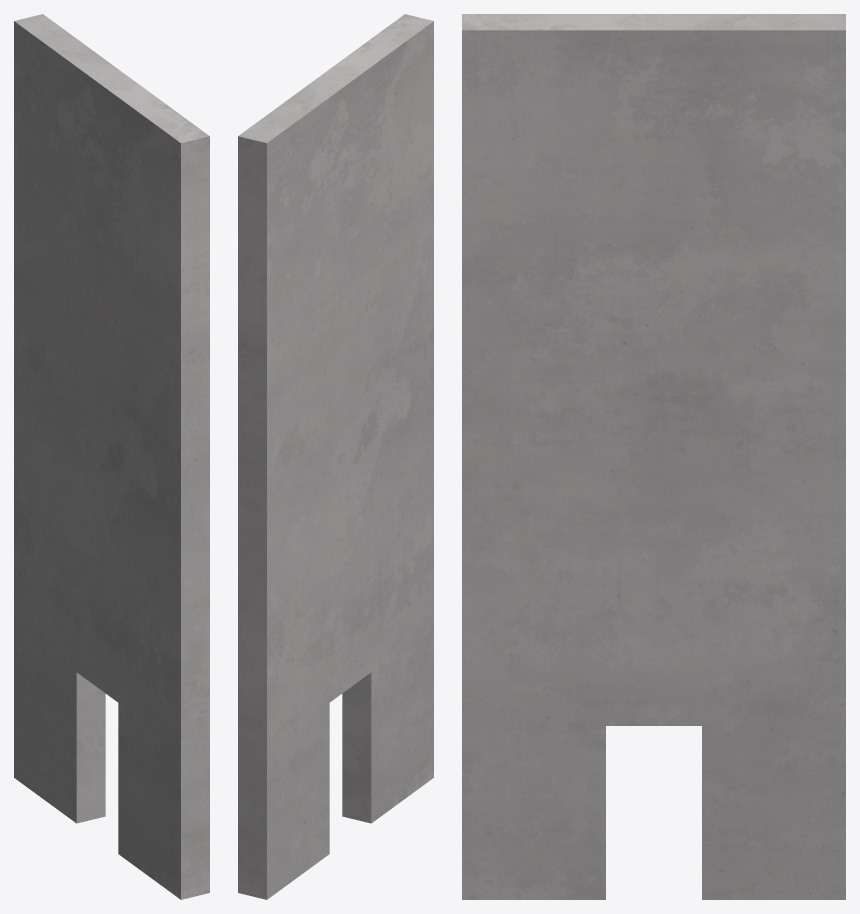
The model's file is Door Wall.fbx.
The picture shows the model from 3 angles, left to right: view 1: azimuth 30°, elevation 25°; view 2: azimuth 150°, elevation 25°; view 3: azimuth 270°, elevation 25°; orthographic projection. The views are drawn at different scales.
Visible parts, largest first — view 1: Human Door Wall; view 2: Human Door Wall; view 3: Human Door Wall.
Boxes of the visible parts, left/top/right/bottom form: Human Door Wall: left=14, top=14, right=209, bottom=899; Human Door Wall: left=238, top=14, right=433, bottom=899; Human Door Wall: left=462, top=14, right=845, bottom=899.
Bounding box in the file's own units: 40 × 1000 × 400.
